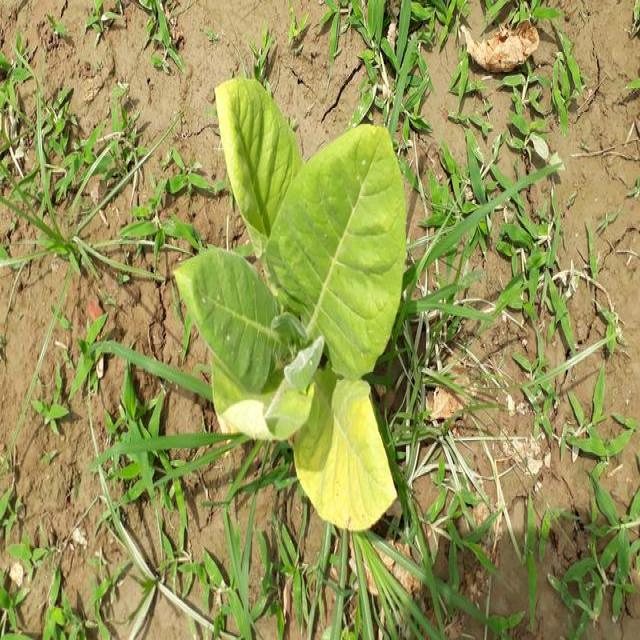crop: (180, 74, 411, 528)
